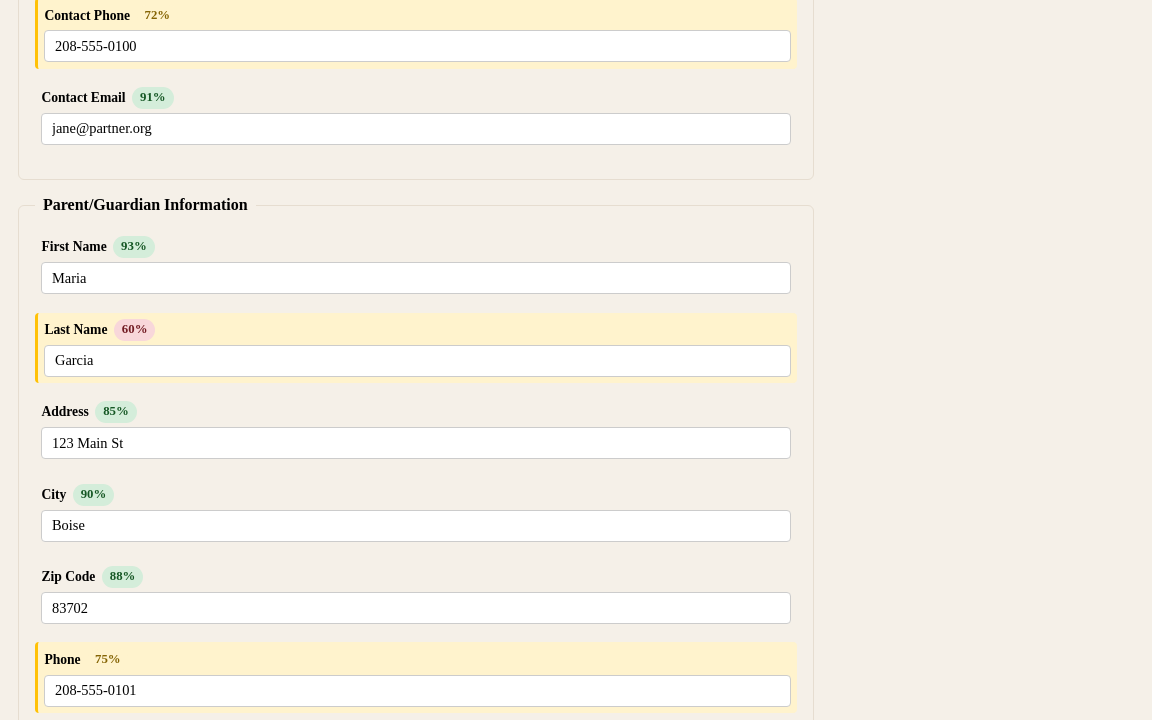
ReviewDetailView › resets confidence to 1.0 when field is edited
The image size is (1152, 720).
(page scrolled)
# Edit the field
Replace the text in the field with id "field-parent_guardian" with "Garcia-Updated" at (418, 361), box [44, 345, 791, 377]
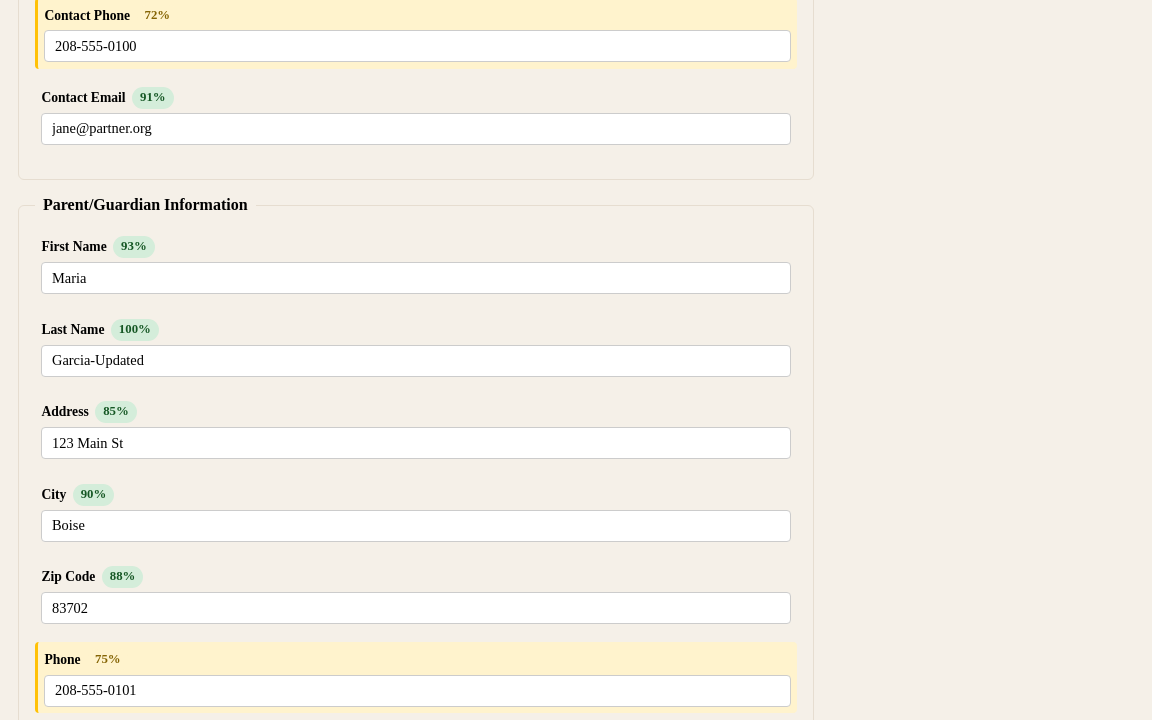
Expected: the message with class "confidence-badge" reads "100%", [119, 322, 151, 336]
